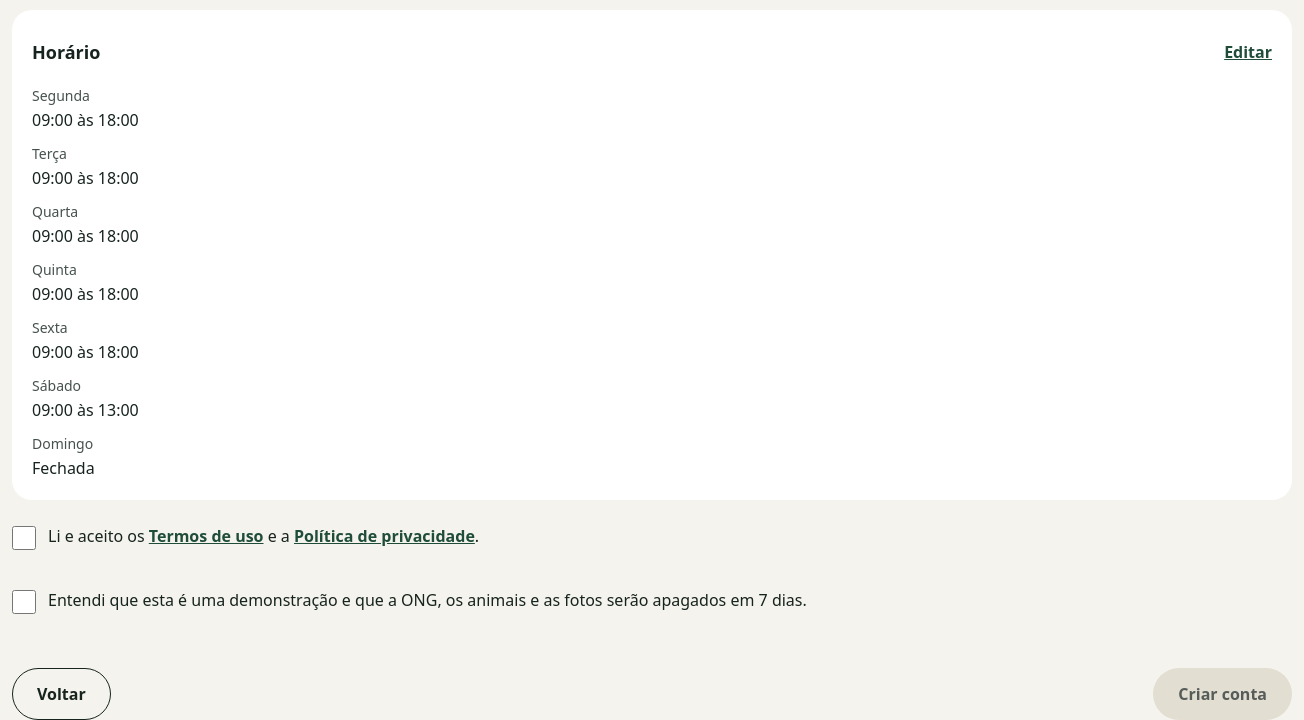
Test: SignupWizard › DEMO-07: erro de cota fica na revisão, num alerta, e o botão volta
(page scrolled)
Click the checkbox named "Li e aceito os Termos de uso e a Política de privacidade.": (24, 538) [12,526,36,550]
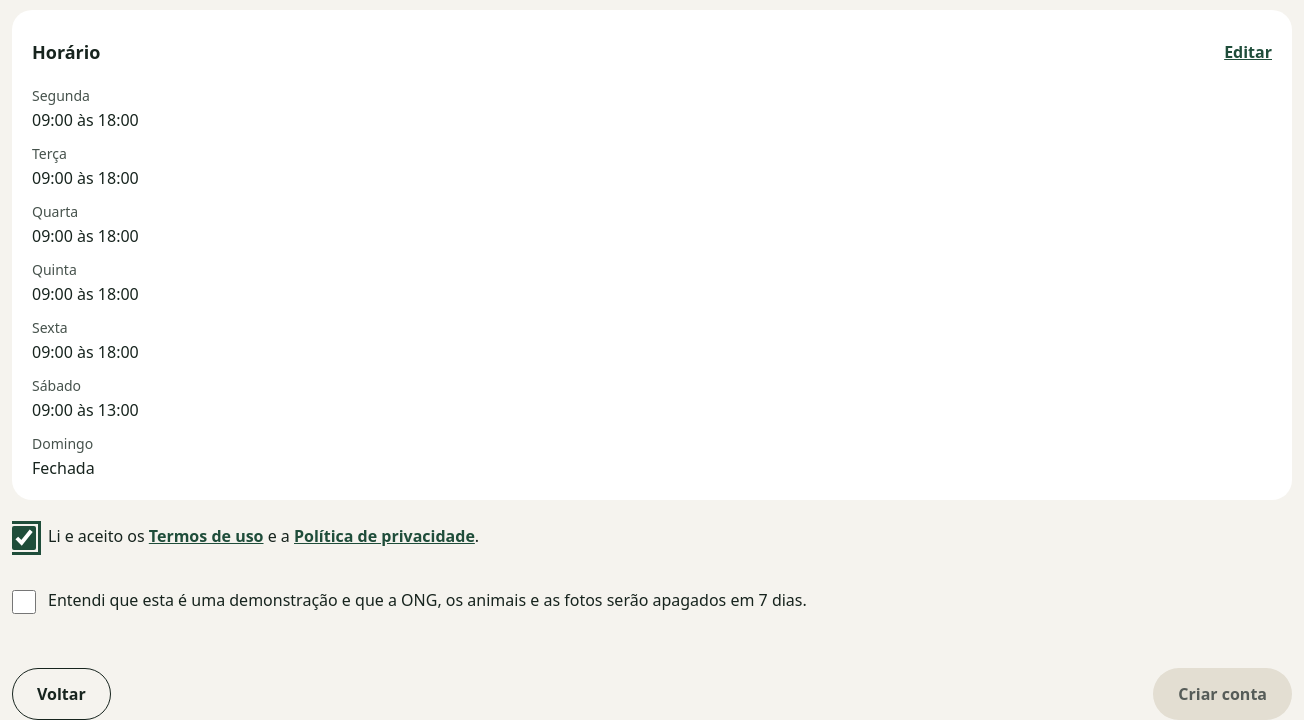
Click the checkbox named "Entendi que esta é uma demonstração e que a ONG, os animais e as fotos serão apagados em 7 dias.": (24, 602) [12,590,36,614]
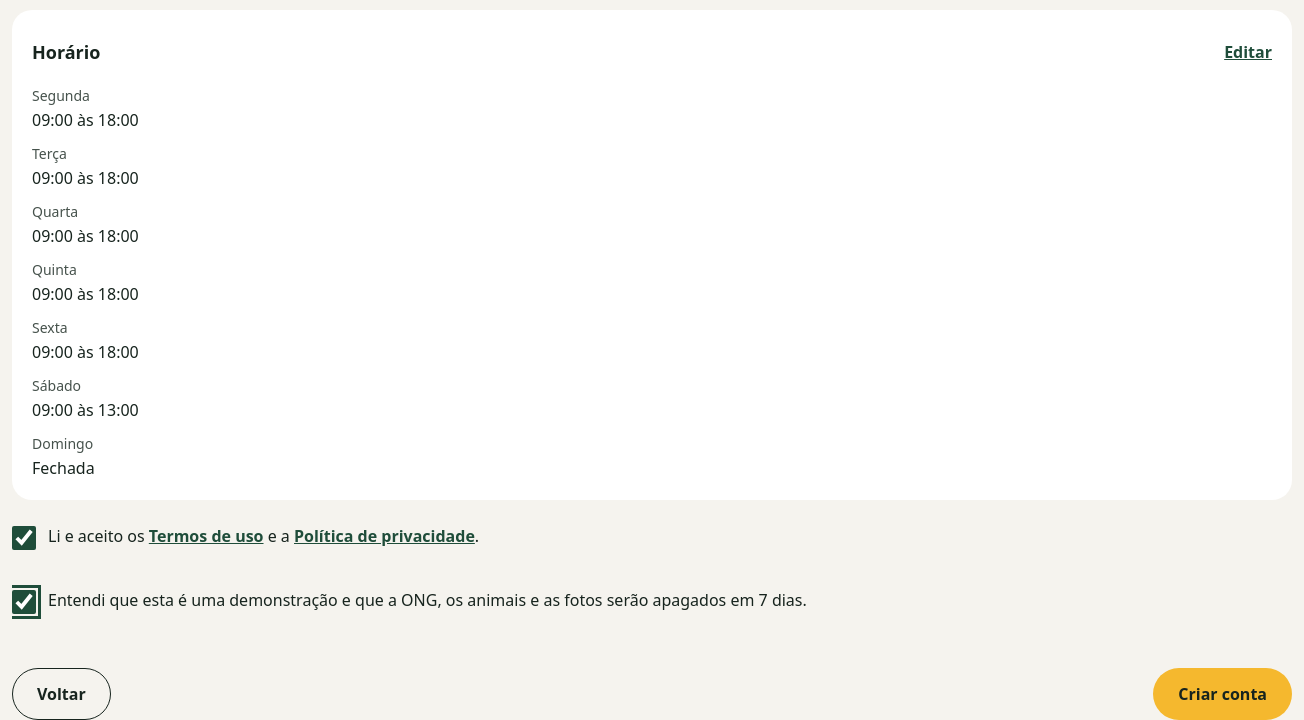
Click the button "Criar conta": (1223, 694) [1153,668,1292,719]
(page scrolled)
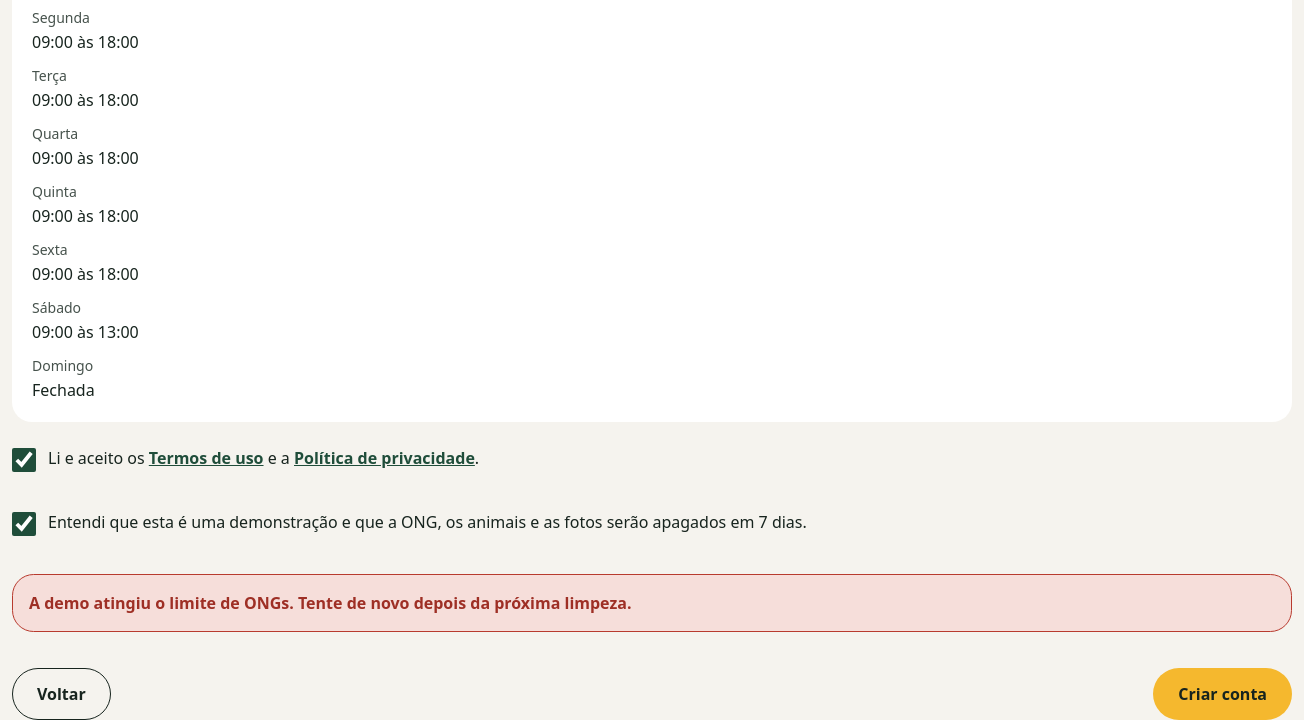
Result: the button "Criar conta" is enabled at [1153,668,1292,719]
Result: the message reads "A demo atingiu o limite de ONGs. Tente de novo depois da próxima limpeza." at [29,592,632,614]
